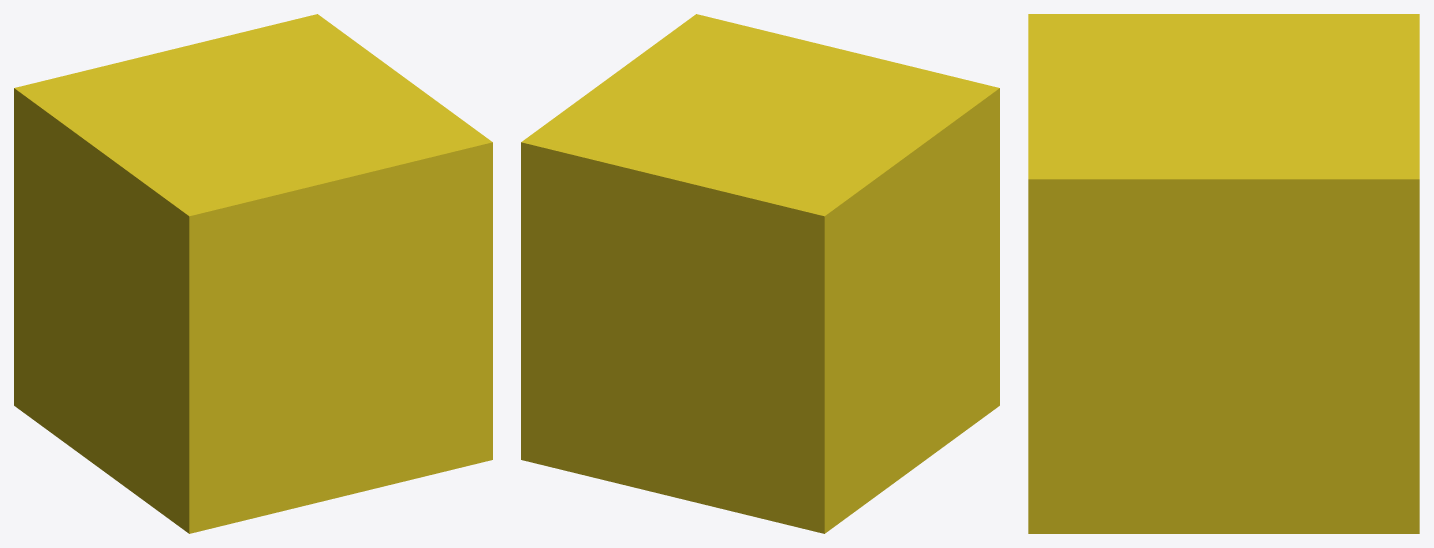
File: lszf-runwaysign.gltf
3 renders of one model, left to right at view 1: azimuth 30°, elevation 25°; view 2: azimuth 150°, elevation 25°; view 3: azimuth 270°, elevation 25°, orthographic. The views are drawn at different scales.
Visible parts, largest first — view 1: Cube; view 2: Cube; view 3: Cube.
Boxes of the visible parts, x1,y1,x2,y2 form: Cube: (14, 14, 492, 533); Cube: (521, 14, 999, 533); Cube: (1028, 14, 1419, 533).
Bounding box in the file's own units: 45 × 45 × 45.
